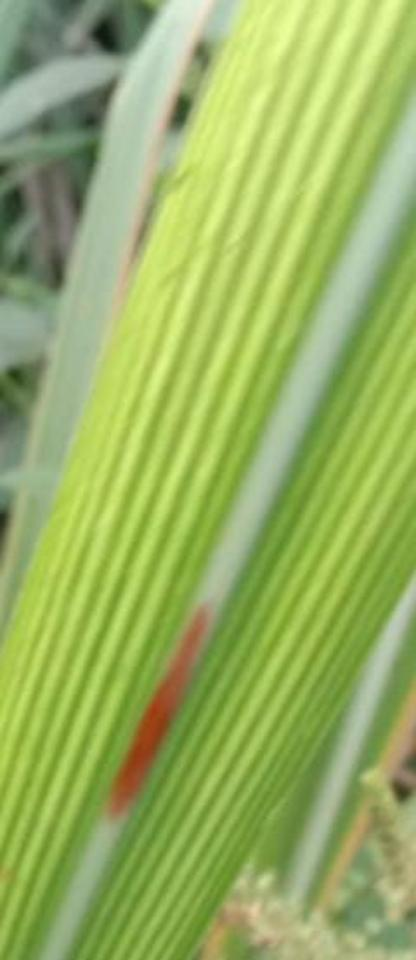RedRot: (103, 594, 214, 827)
